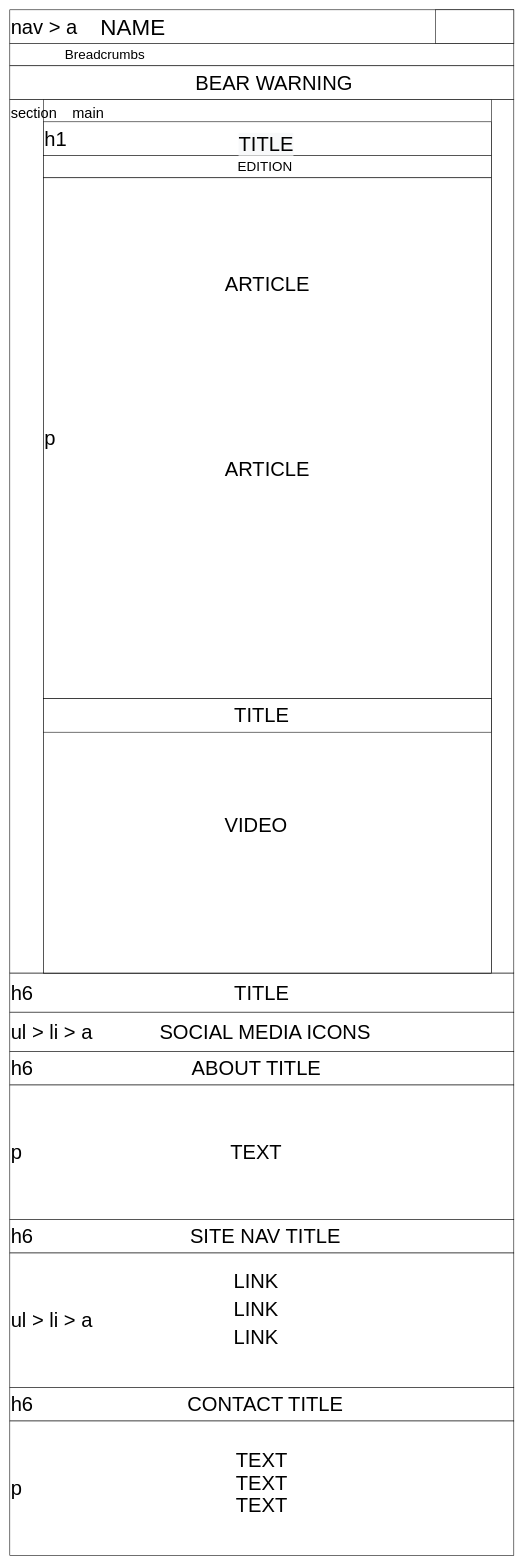
The diagram is 524 pixels wide and 1565 high, and some of its shapes have lost their labels. The box of each missing label's shape, as (x1, y1, x2, y2) in pixels:
button .navbar-toggler: (435, 9, 514, 43)
div .alert: (9, 65, 514, 99)
h3: (43, 698, 491, 732)
iframe: (43, 698, 491, 973)
nav > ol: (9, 43, 514, 66)
p > small: (43, 155, 491, 178)
